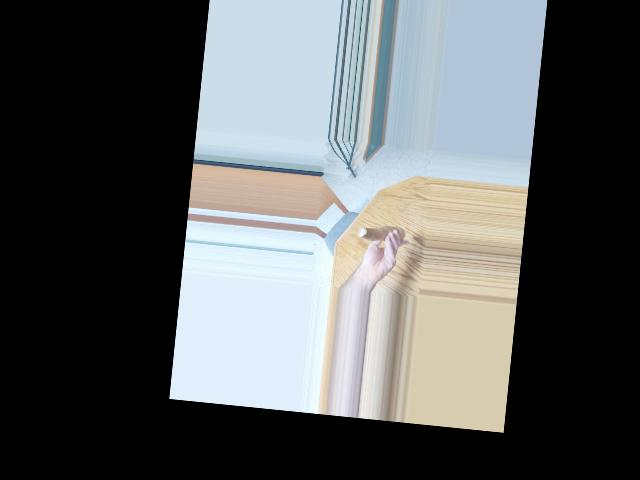sweet_potato: (360, 221, 402, 246)
